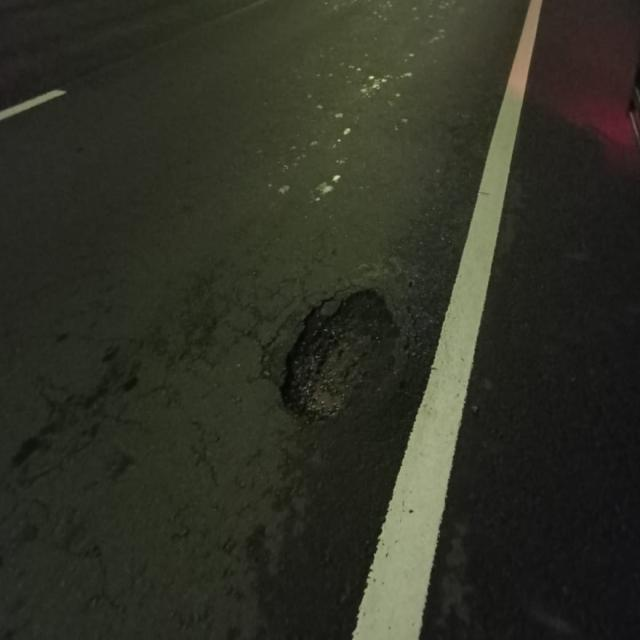Buraco: (272, 284, 408, 433)
